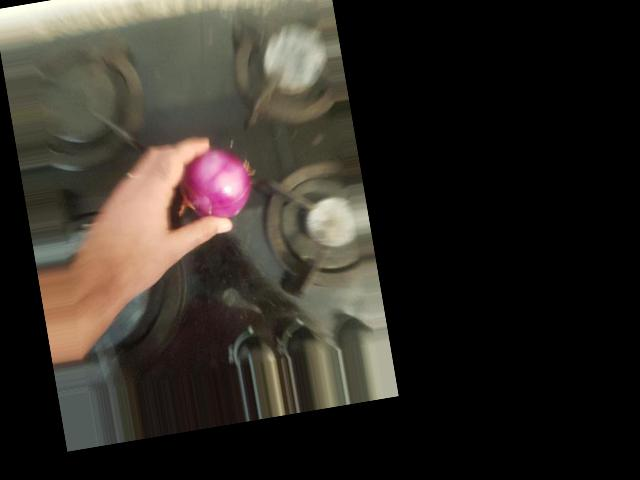onion: (210, 62, 311, 157)
